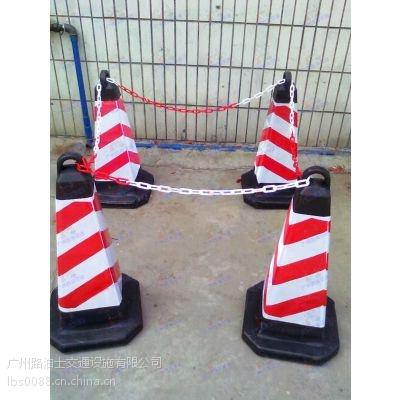cone_barrel: (239, 165, 343, 359), (44, 147, 143, 343), (77, 73, 146, 191), (242, 74, 308, 191)
